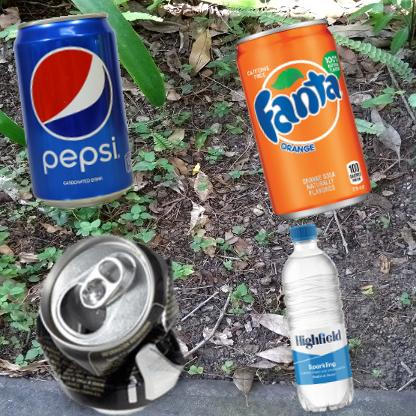botella: (213, 213, 416, 416)
lata: (213, 10, 407, 249), (10, 213, 224, 416), (10, 10, 144, 226)
